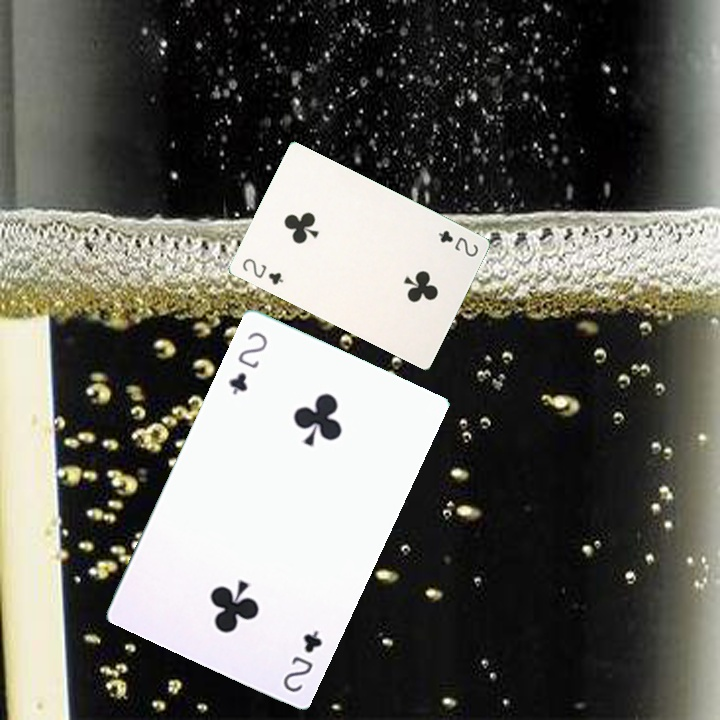2c: (224, 327, 270, 398), (279, 625, 325, 695), (238, 254, 286, 288), (434, 226, 481, 260)
